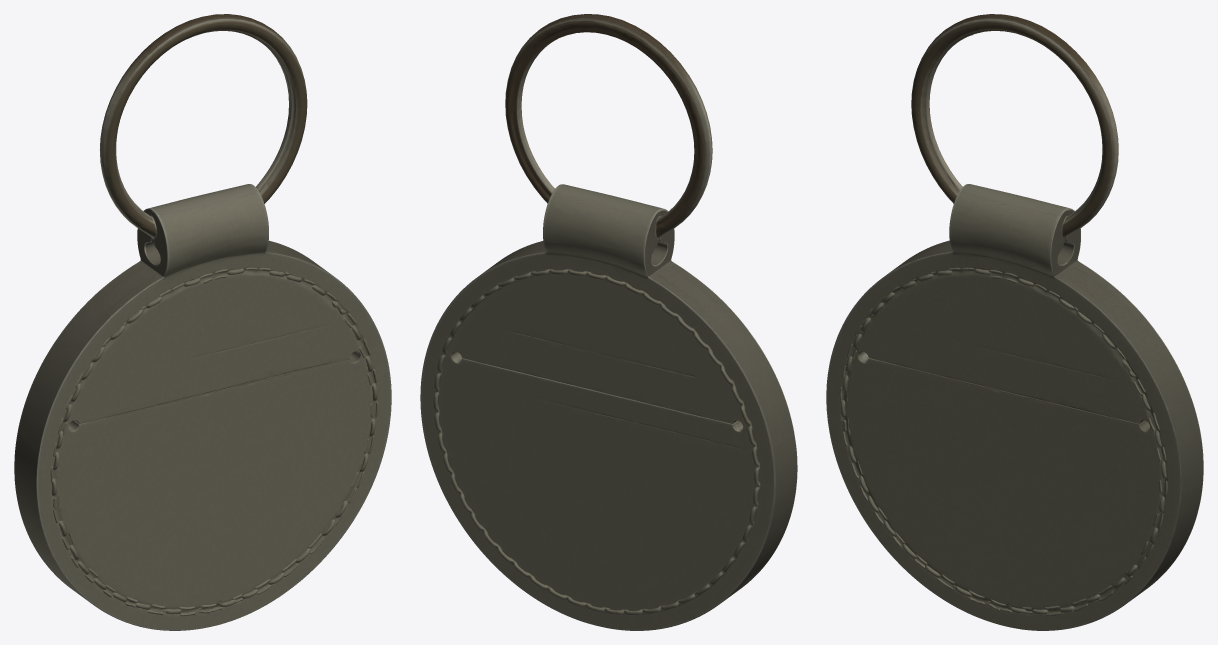
The model's file is leather-round.glb.
The picture shows the model from 3 angles, left to right: view 1: azimuth 30°, elevation 25°; view 2: azimuth 150°, elevation 25°; view 3: azimuth 330°, elevation 25°; orthographic projection.
Bounding box in the file's own units: 1.18 × 1.9 × 0.1762.
Materials: 1 (1 with a texture image).
